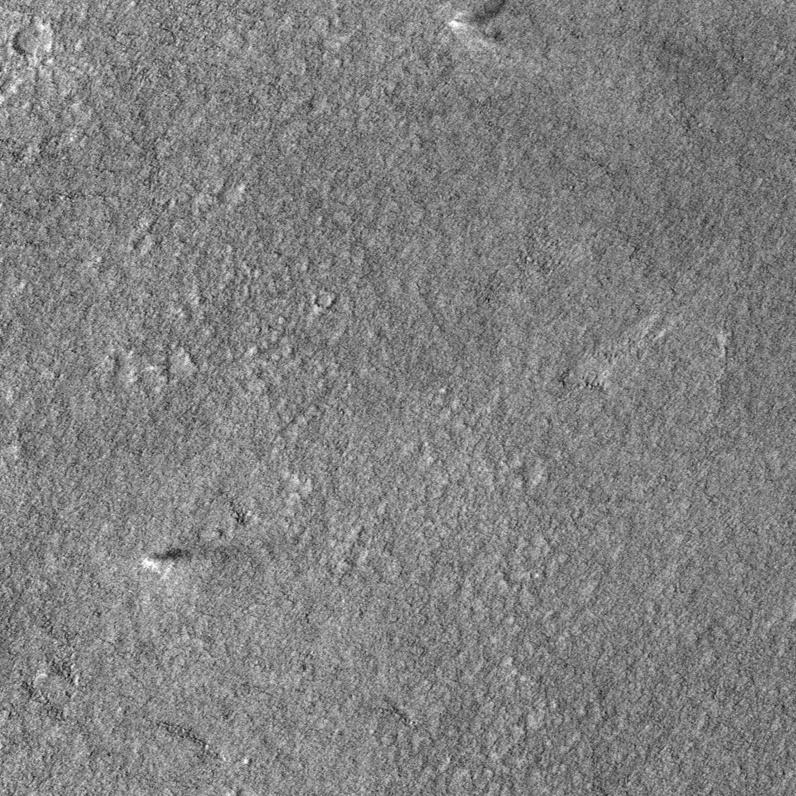dust_devil: (446, 1, 511, 48), (139, 546, 194, 582)
